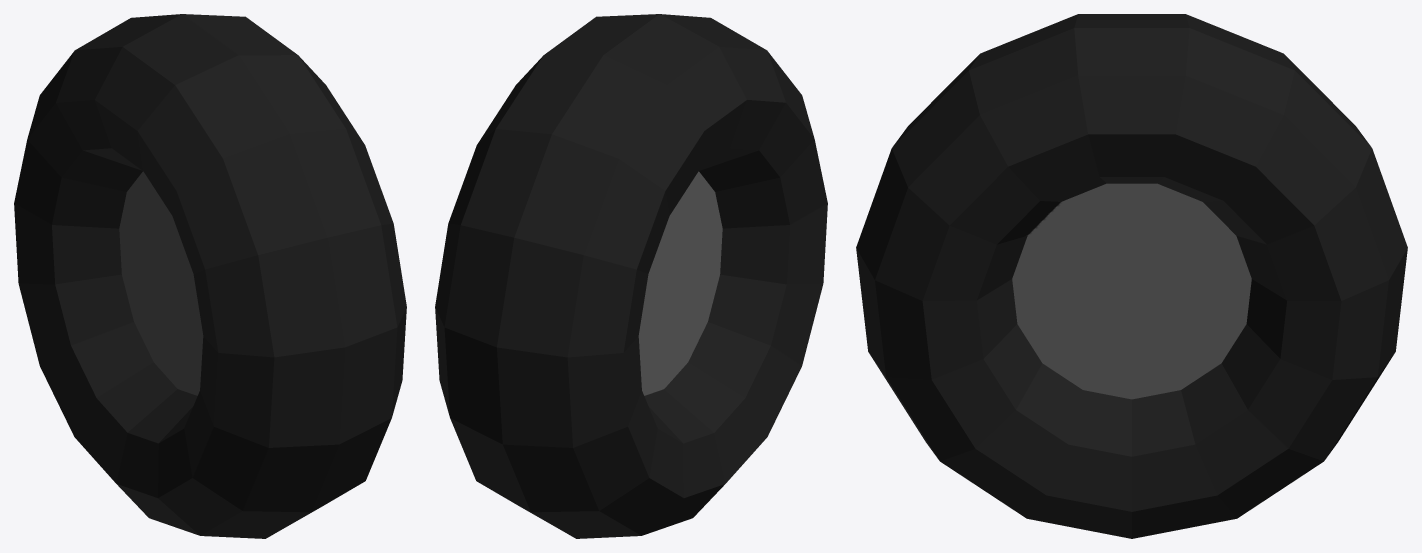
Rendered from CarWheel.fbx.
The picture shows the model from 3 angles, left to right: view 1: azimuth 30°, elevation 25°; view 2: azimuth 150°, elevation 25°; view 3: azimuth 270°, elevation 25°; orthographic projection. The views are drawn at different scales.
Visible parts, largest first — view 1: WheelTextured; view 2: WheelTextured; view 3: WheelTextured.
Part boxes in pixels (x1,y1,x2,y2): WheelTextured: (14,14,406,538); WheelTextured: (435,14,827,538); WheelTextured: (856,14,1407,538).
Bounding box in the file's own units: 34.05 × 83.75 × 84.21.
